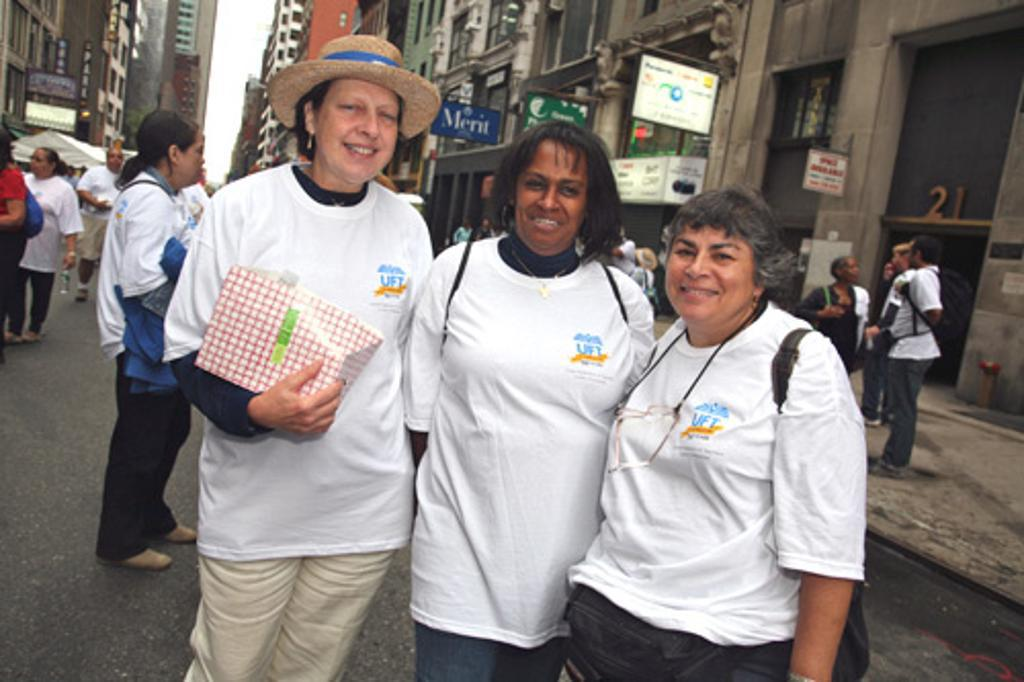face: (667, 223, 758, 324), (318, 77, 402, 183), (518, 153, 590, 251), (179, 135, 205, 183), (30, 151, 50, 175), (843, 261, 859, 281), (892, 252, 907, 272), (108, 151, 123, 170), (908, 245, 920, 267), (883, 265, 893, 279)
